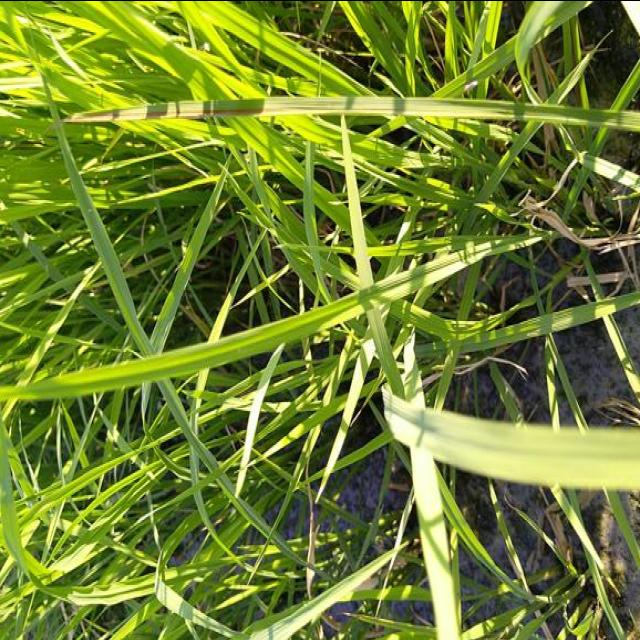Leaf Streak: (72, 88, 406, 122)
